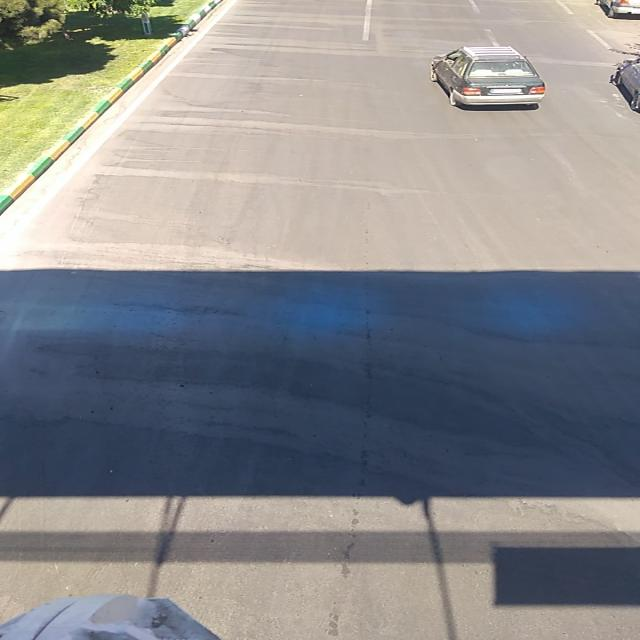car: (425, 45, 547, 107), (592, 0, 639, 18)
